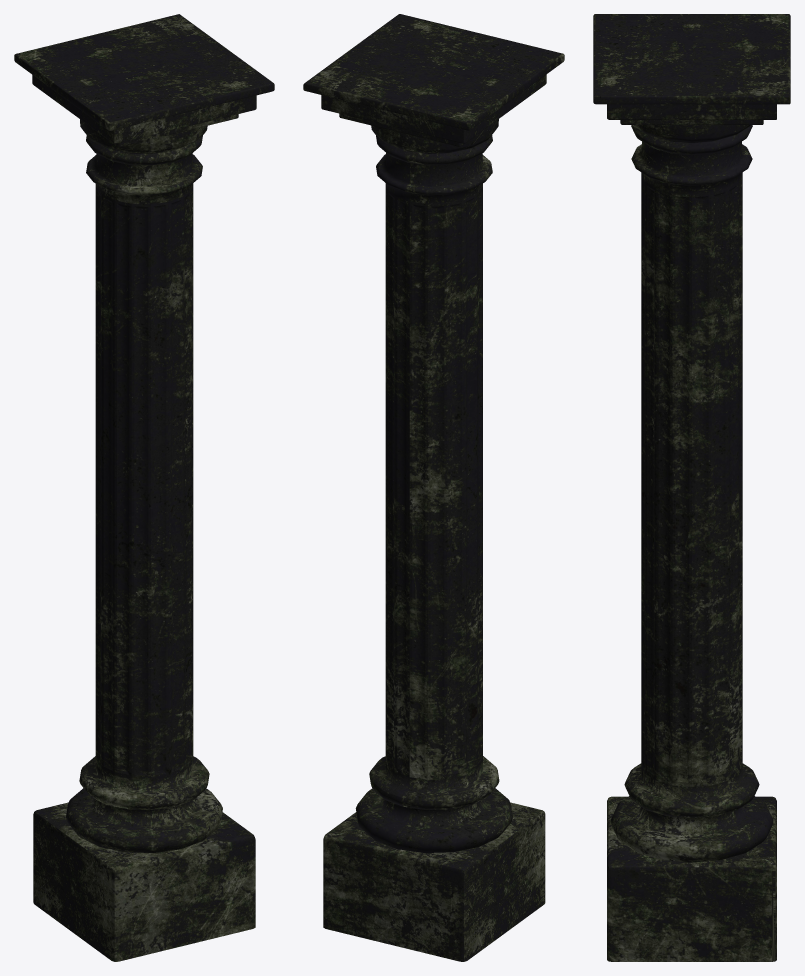
File: pillar.dae
The picture shows the model from 3 angles, left to right: view 1: azimuth 30°, elevation 25°; view 2: azimuth 150°, elevation 25°; view 3: azimuth 270°, elevation 25°; orthographic projection. The views are drawn at different scales.
Visible parts, largest first — view 1: polySurface4, pCube1, pCube2, polySurface3, polySurface2; view 2: polySurface4, pCube1, pCube2, polySurface3, polySurface2; view 3: polySurface4, pCube2, pCube1, polySurface3, polySurface2.
Part boxes in pixels (<box>): polySurface4: <box>95,183,193,779</box>; pCube1: <box>33,802,255,961</box>; pCube2: <box>14,14,274,146</box>; polySurface3: <box>66,756,222,852</box>; polySurface2: <box>80,119,207,204</box>; polySurface4: <box>385,183,482,779</box>; pCube1: <box>323,802,545,961</box>; pCube2: <box>303,14,564,146</box>; polySurface3: <box>355,756,512,852</box>; polySurface2: <box>371,119,498,203</box>; polySurface4: <box>641,174,742,786</box>; pCube2: <box>593,14,790,124</box>; pCube1: <box>607,796,776,961</box>; polySurface3: <box>610,763,773,862</box>; polySurface2: <box>631,125,752,194</box>.
Size of the model in its own units: 0.4105 by 0.4105 by 2.
1 material, 1 textured.
